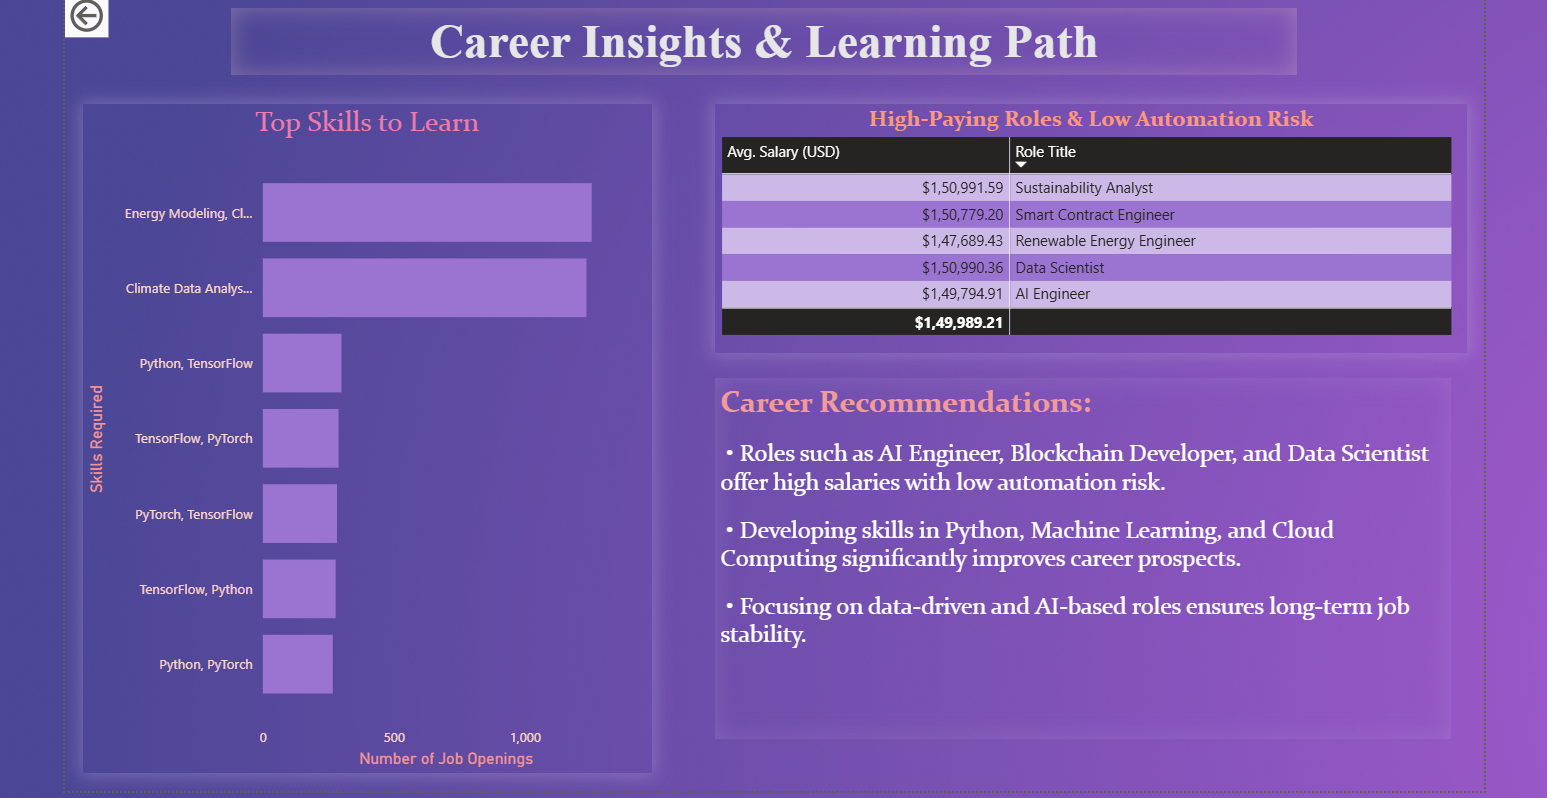

What the dashboard file says about the page in this screenshot:
{"tool":"powerbi","page":{"name":"Career Insights","canvas":[1280,720],"ordinal":2},"visuals":[{"type":"textbox","box":[150.4,13.5,961.1,61.1],"z":0},{"type":"clusteredBarChart","title":"Top Skills to Learn","fields":{"Category":["future_jobs_dataset.Skills Required"],"Y":["CountNonNull(future_jobs_dataset.job_id)"]},"box":[15.9,100.3,513.6,602.9],"z":1000},{"type":"tableEx","title":"High-Paying Roles & Low Automation Risk","fields":{"Values":["future_jobs_dataset.Average Salary","future_jobs_dataset.Job Title"]},"box":[585.7,100.3,678.7,223.8],"z":2000},{"type":"textbox","box":[585.9,347.2,664.2,325.2],"z":3000},{"type":"actionButton","box":[0,0,39.1,40.4],"z":4000}]}

Visuals, with their boxes on the page's 1280x720 design canvas (x1, y1, x2, y2). These are canvas units, not pixel positions in the 1547x798 screenshot, which may show the page scaled, cropped or inside an application window:
textbox: bbox(150, 14, 1112, 75)
"Top Skills to Learn" clusteredBarChart: bbox(16, 100, 530, 703)
"High-Paying Roles & Low Automation Risk" tableEx: bbox(586, 100, 1264, 324)
textbox: bbox(586, 347, 1250, 672)
actionButton: bbox(0, 0, 39, 40)
